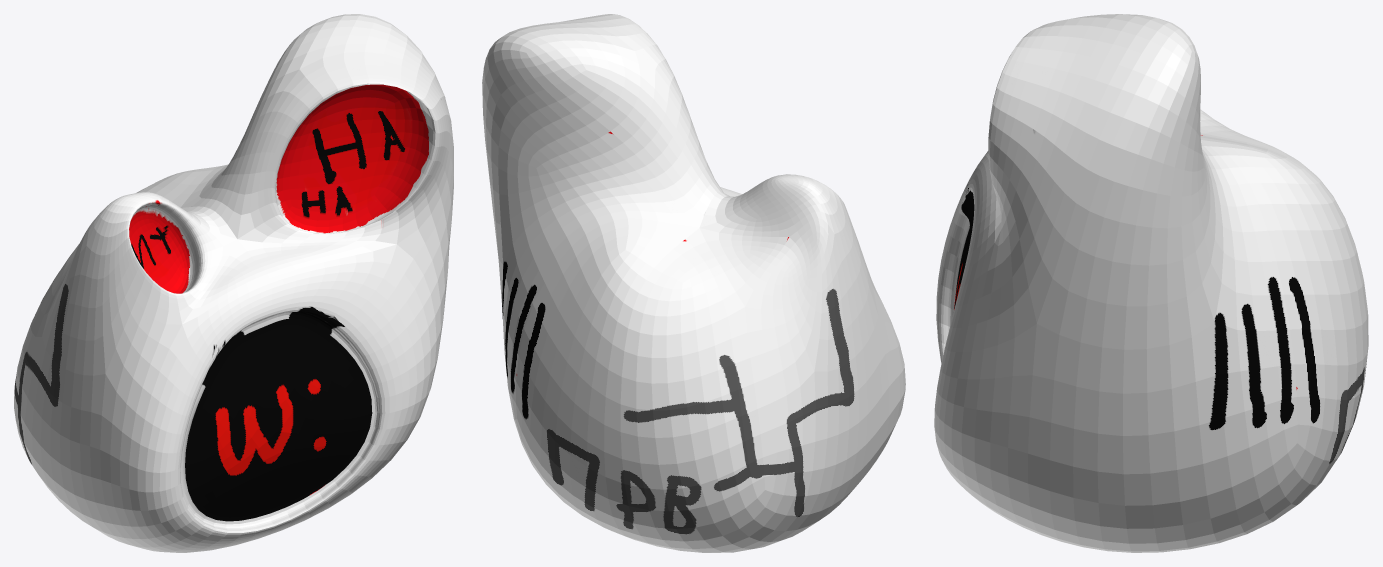
The model's file is Aracticna.fbx.
3 renders of one model, left to right at view 1: azimuth 30°, elevation 25°; view 2: azimuth 150°, elevation 25°; view 3: azimuth 270°, elevation 25°, orthographic. The views are drawn at different scales.
Visible parts, largest first — view 1: Cube; view 2: Cube; view 3: Cube.
Boxes of the visible parts, box(x1,y1,x2,y2) form: Cube: box(14, 14, 453, 552); Cube: box(482, 14, 905, 552); Cube: box(934, 14, 1368, 552).
Size of the model in its own units: 453 by 534 by 365.
